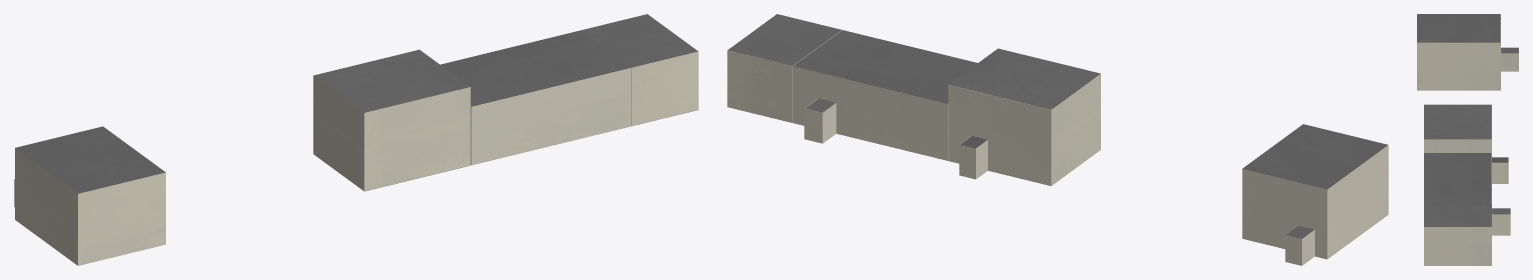
The model's file is level layout-upper mid.fbx.
3 views of the same model, side by side, from view 1: azimuth 30°, elevation 25°; view 2: azimuth 150°, elevation 25°; view 3: azimuth 270°, elevation 25° (orthographic). The views are drawn at different scales.
Visible parts, largest first — view 1: rooms-upper middle; view 2: rooms-upper middle; view 3: rooms-upper middle.
Boxes of the visible parts, bbox=[...] form: rooms-upper middle: bbox=[14, 14, 698, 265]; rooms-upper middle: bbox=[727, 14, 1388, 265]; rooms-upper middle: bbox=[1417, 14, 1518, 265].
Size of the model in its own units: 5395 by 649 by 1142.
Materials: 1 (1 with a texture image).
